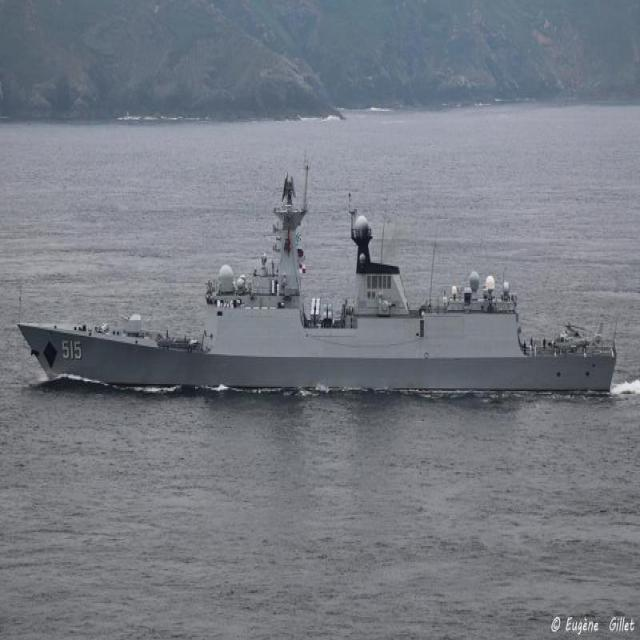Fragata: (16, 177, 620, 398)
